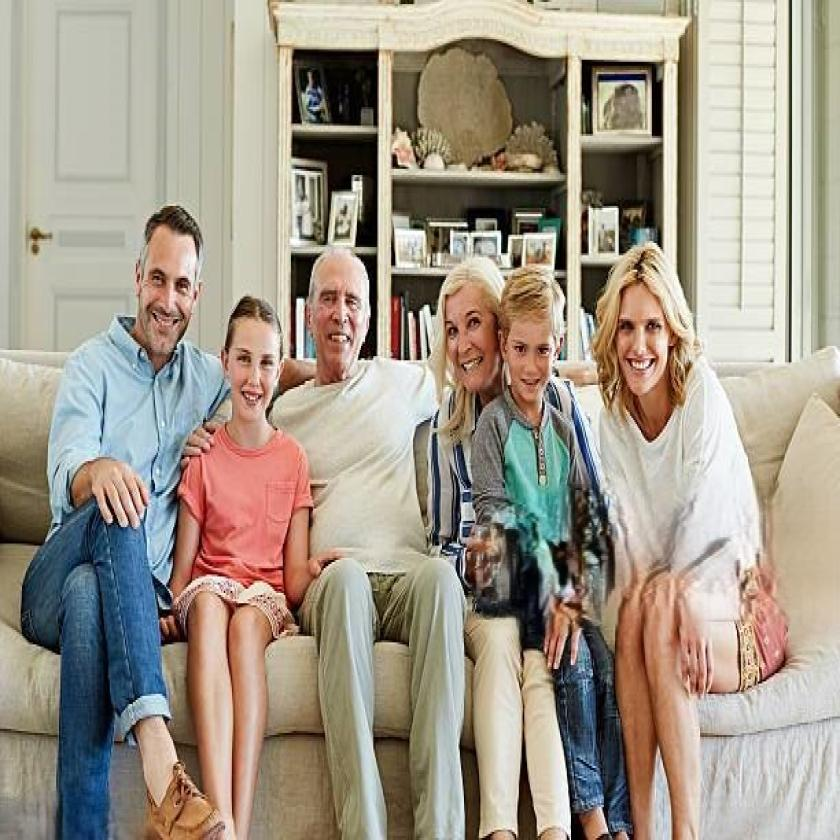Sin_casco: (596, 243, 687, 433), (130, 199, 204, 368), (436, 256, 507, 416), (220, 296, 292, 437), (308, 241, 376, 385), (503, 269, 566, 415)
